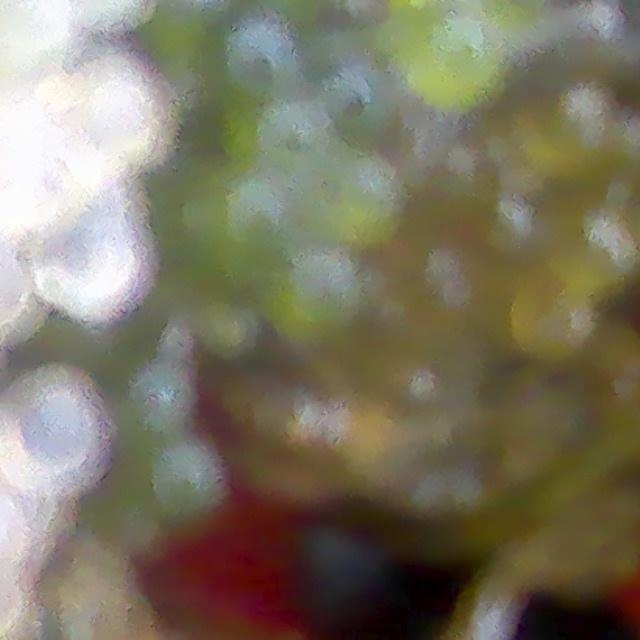SeaGrape: (33, 208, 142, 329), (0, 376, 110, 493), (265, 239, 371, 353), (63, 61, 167, 174), (136, 428, 239, 535), (518, 76, 617, 184), (288, 513, 391, 612), (394, 8, 496, 107), (546, 206, 634, 296), (509, 287, 596, 362)
